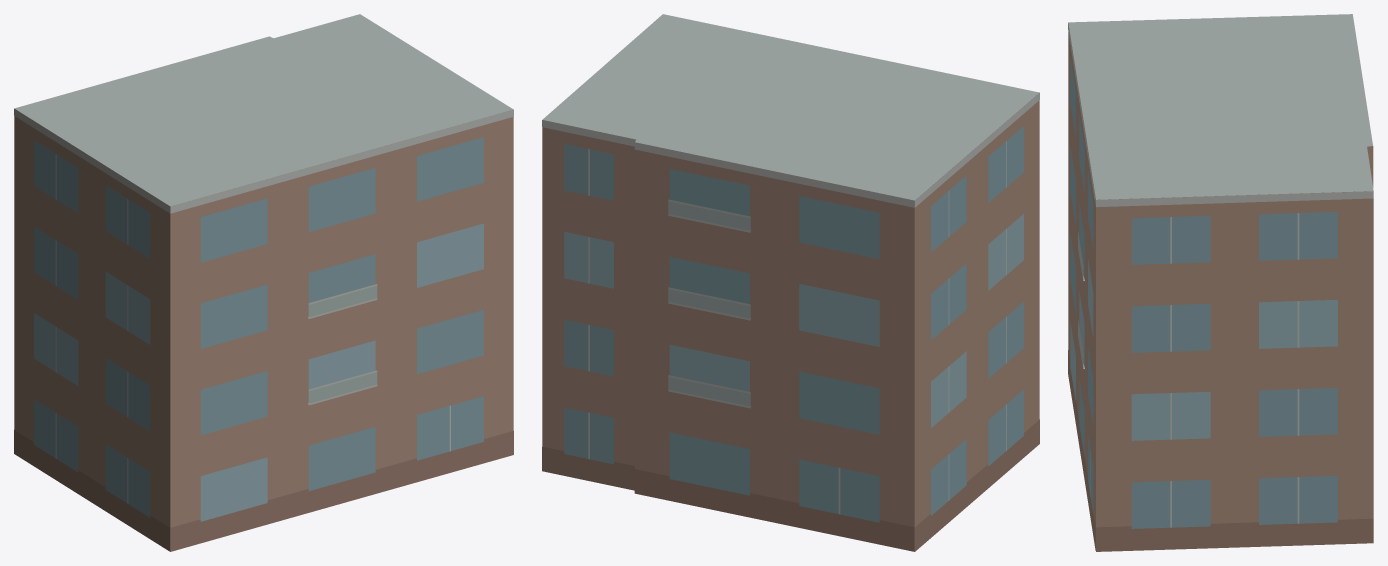
Rendered from survey-upis-32878094.glb.
3 views of the same model, side by side, from view 1: azimuth 30°, elevation 25°; view 2: azimuth 150°, elevation 25°; view 3: azimuth 270°, elevation 25° (orthographic).
Visible parts, largest first — view 1: survey-upis-32878094.tmp; view 2: survey-upis-32878094.tmp; view 3: survey-upis-32878094.tmp.
Part boxes in pixels (x1,y1,x2,y2): survey-upis-32878094.tmp: (14, 14, 513, 551); survey-upis-32878094.tmp: (542, 14, 1039, 551); survey-upis-32878094.tmp: (1068, 14, 1373, 551).
Bounding box in the file's own units: 13.26 × 11.7 × 9.21.
